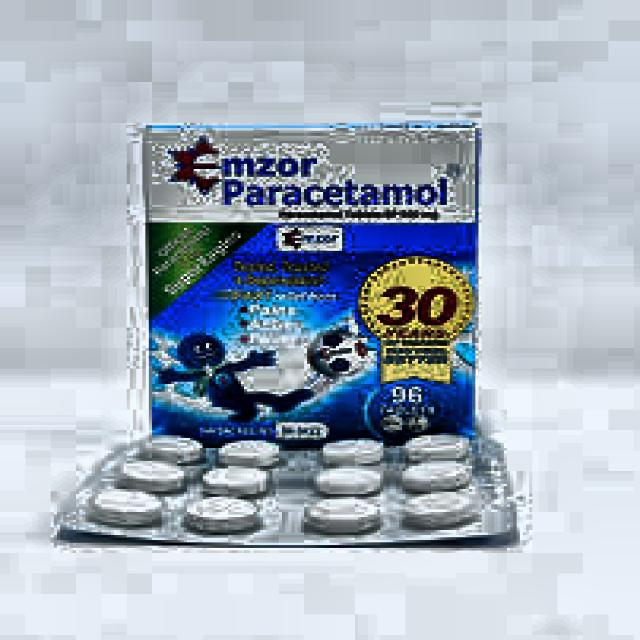Paracetamol: (149, 127, 476, 420)
